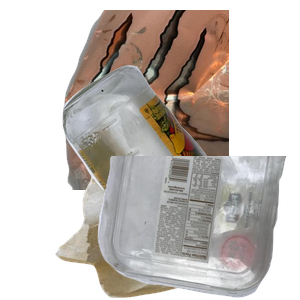glass: (60, 63, 300, 243)
metal: (60, 10, 300, 190)
plastic: (95, 156, 300, 300)
trash: (53, 121, 239, 300)
